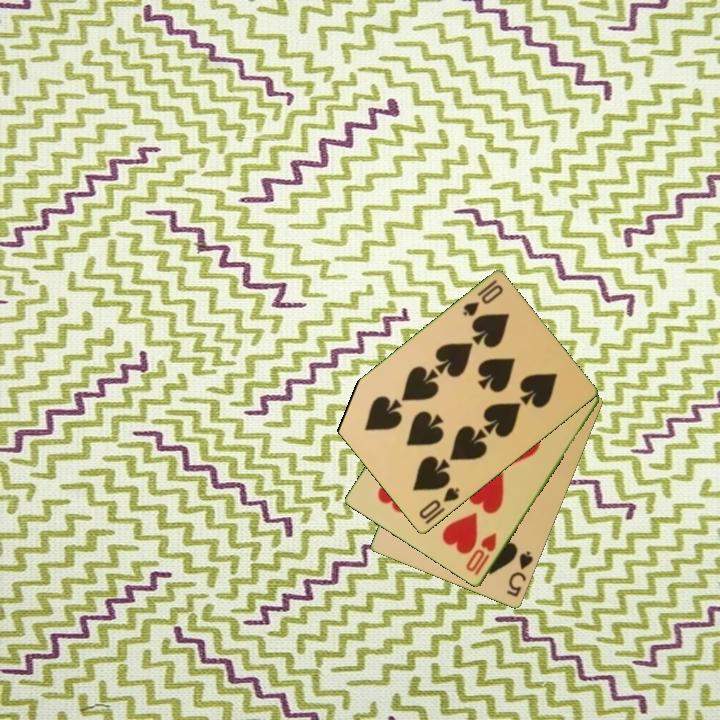10h: (462, 530, 500, 579)
10s: (459, 276, 506, 320), (415, 484, 463, 522)
5s: (503, 548, 536, 600)
